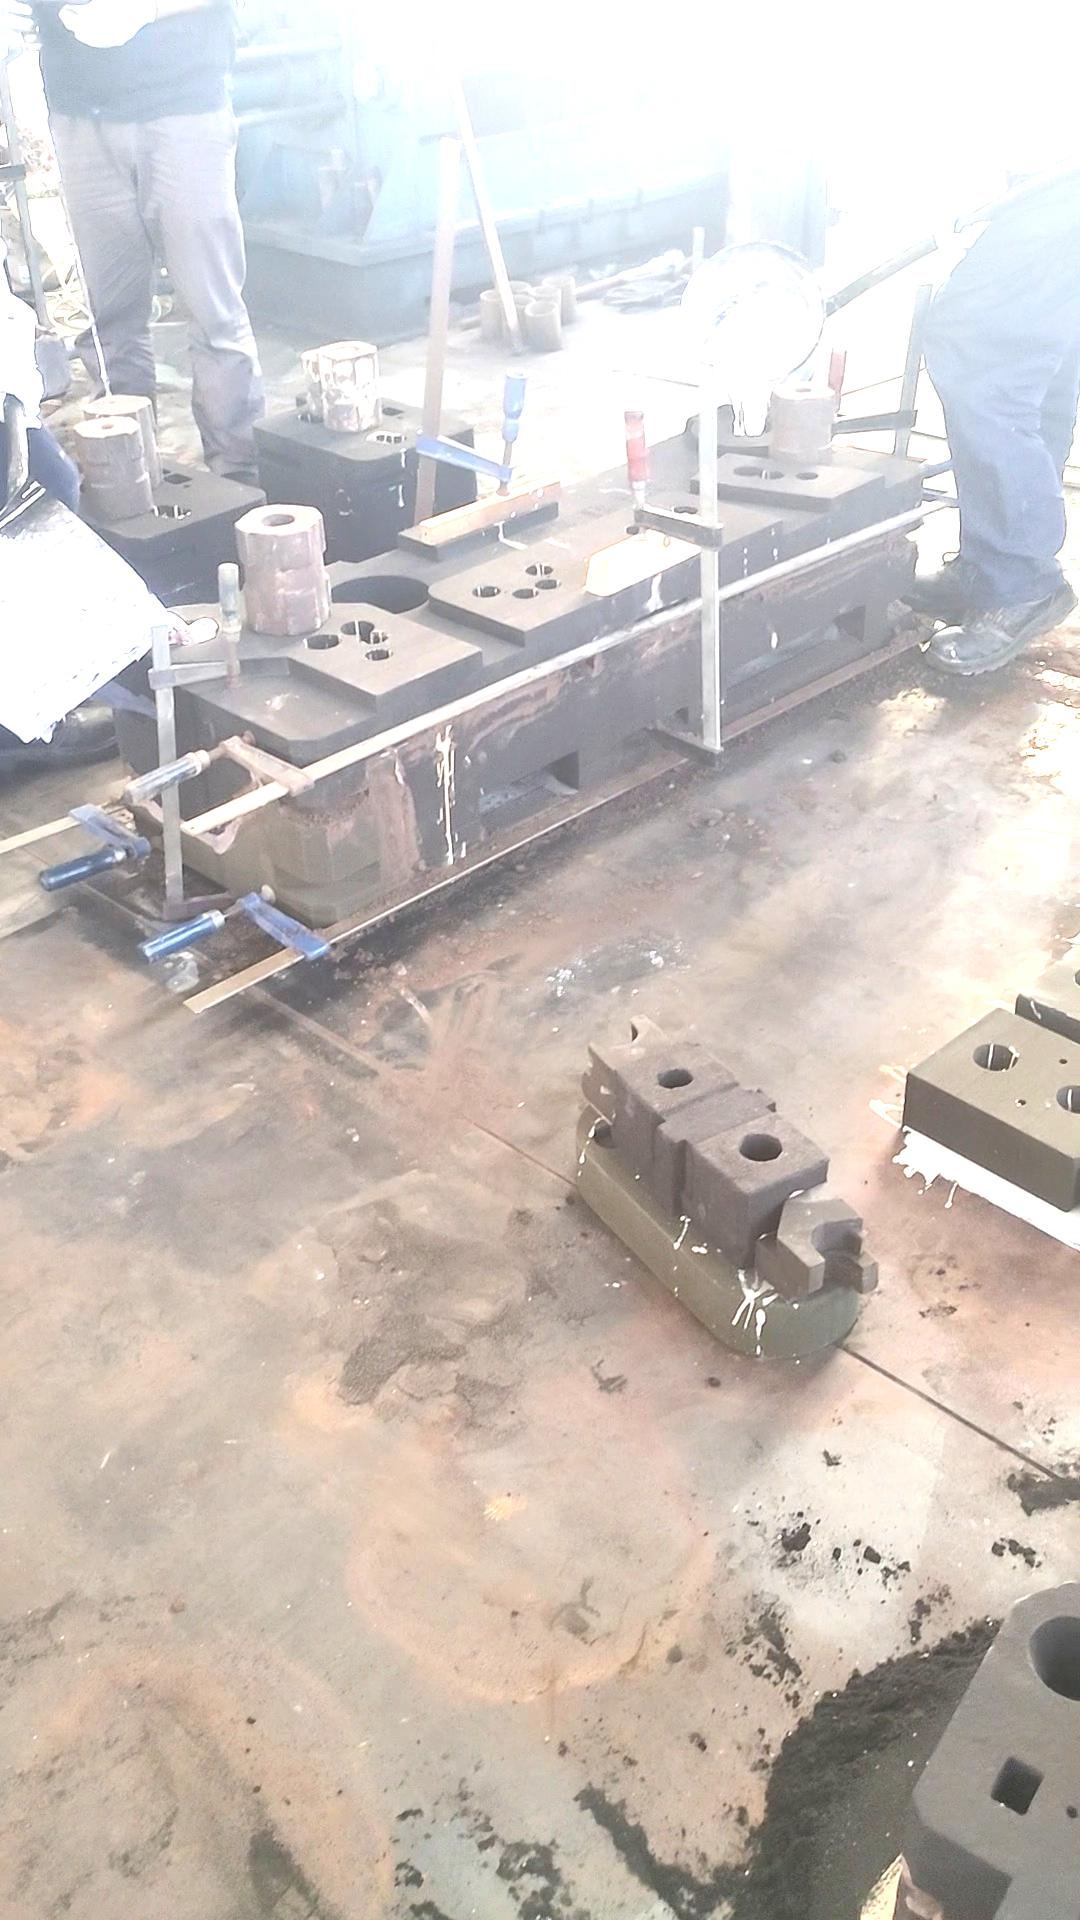pouring hole: (1030, 1615, 1080, 1698), (157, 617, 216, 646), (971, 1043, 1018, 1072), (727, 413, 770, 438), (99, 429, 135, 450), (1056, 1083, 1080, 1113), (320, 376, 352, 394), (524, 301, 558, 315), (502, 293, 534, 307), (541, 274, 574, 287), (501, 280, 530, 291), (481, 287, 504, 301), (531, 287, 562, 297), (1071, 968, 1080, 986)
